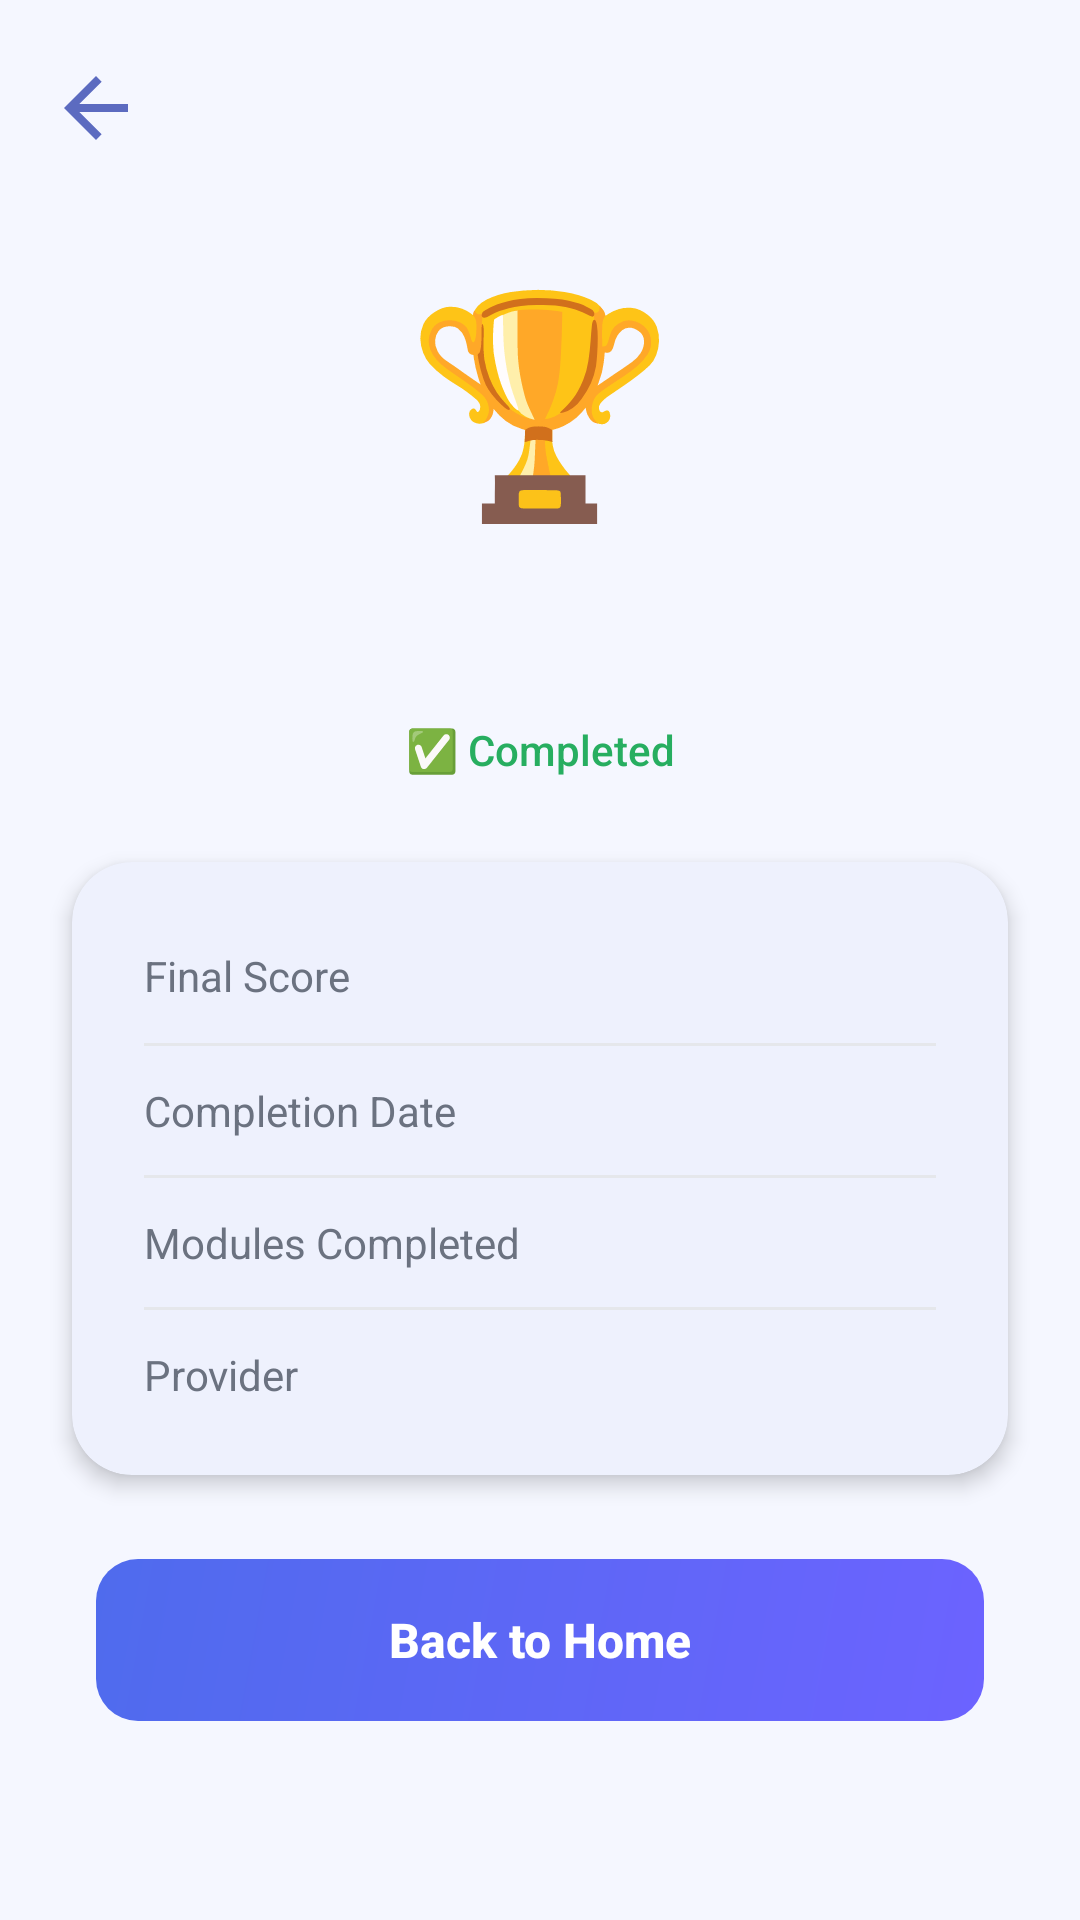

Named icons in this screenshot (1080px x 1920px) and their bounding boxes, detection(x1, y1, x2, y2):
Go back: detection(64, 76, 128, 140)
